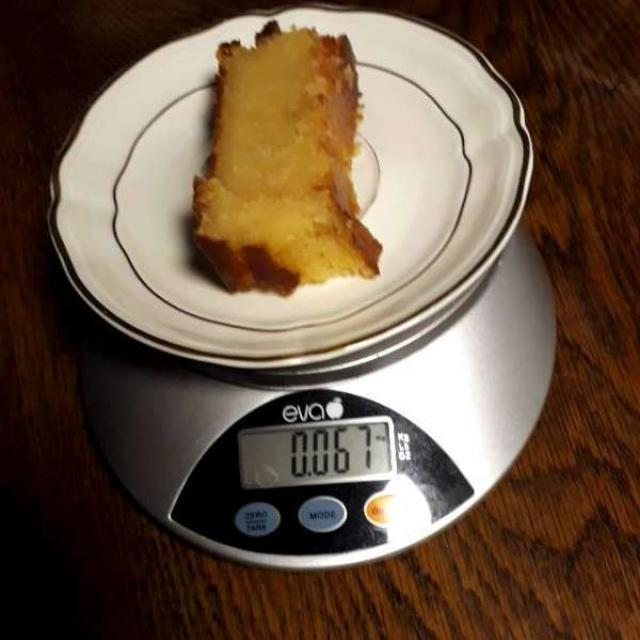cake: (195, 27, 378, 290)
